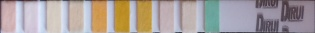color 1: (1, 1, 15, 32)
color 10: (204, 1, 219, 31)
color 2: (23, 2, 38, 31)
color 3: (47, 2, 60, 32)
color 4: (69, 2, 83, 30)
color 5: (92, 2, 106, 31)
color 6: (115, 2, 129, 31)
color 7: (137, 2, 151, 32)
color 8: (160, 2, 174, 31)
color 9: (183, 3, 196, 32)
